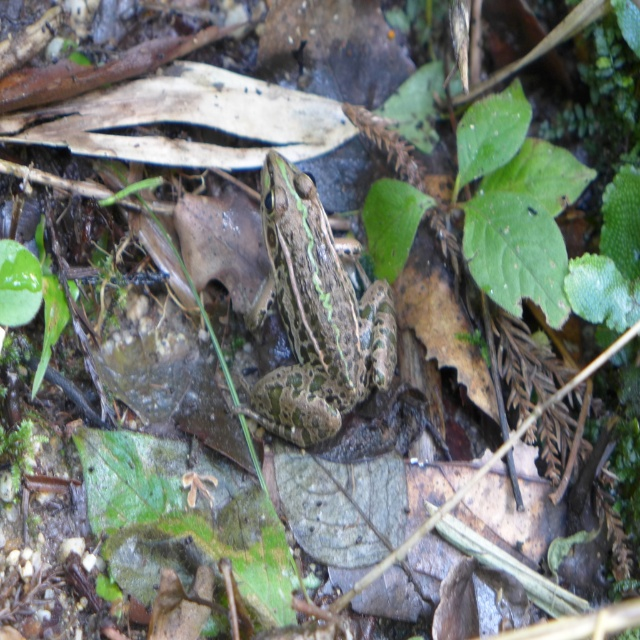Frog: (230, 148, 396, 444)
